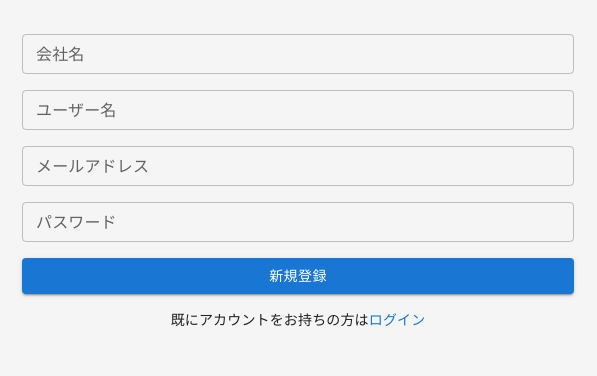
Test case: SignupPage › AUTH-FE-026: 409 EMAIL_ALREADY_EXISTS エラー時に重複エラーメッセージが表示される
Type "Test Corp" into the field labelled "会社名".
click(298, 54); type("Test Corp")  # box [22,34,574,74]
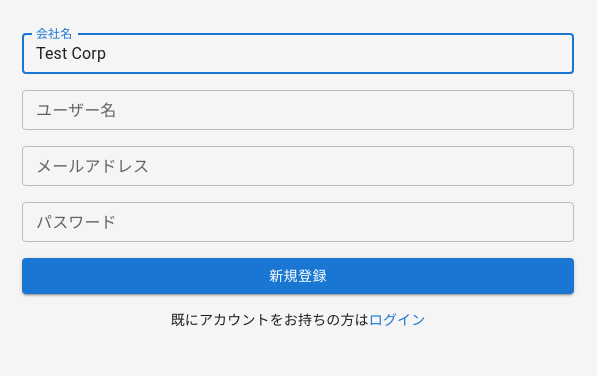
Type "Test User" into the field labelled "ユーザー名".
click(298, 110); type("Test User")  # box [22,90,574,130]
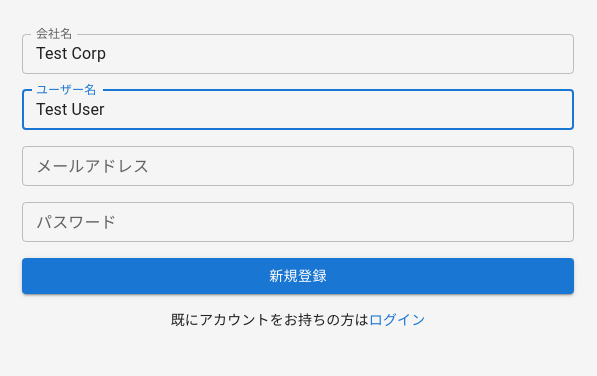
Type "new@example.com" into the field labelled "メールアドレス".
click(298, 166); type("new@example.com")  # box [22,146,574,186]
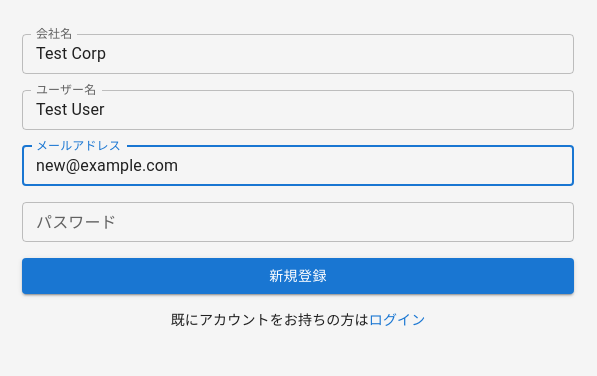
Type "TestPass1!" into the password field labelled "パスワード".
click(298, 222); type("TestPass1!")  # box [22,202,574,242]
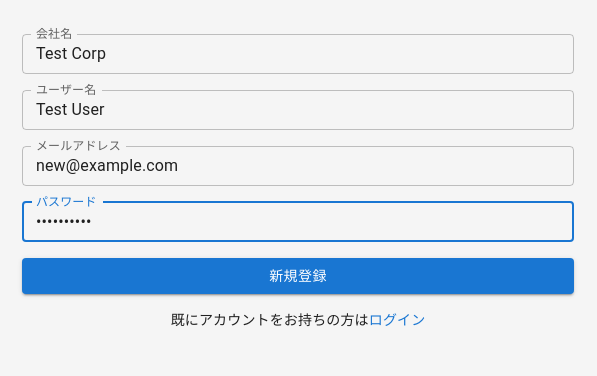
Click the button "新規登録".
click(298, 276)  # box [22,258,574,294]
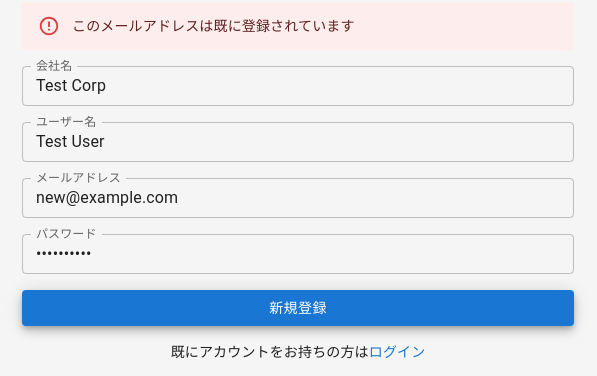
Check: the text "このメールアドレスは既に登録されています" is shown, box [72,18,355,34]
